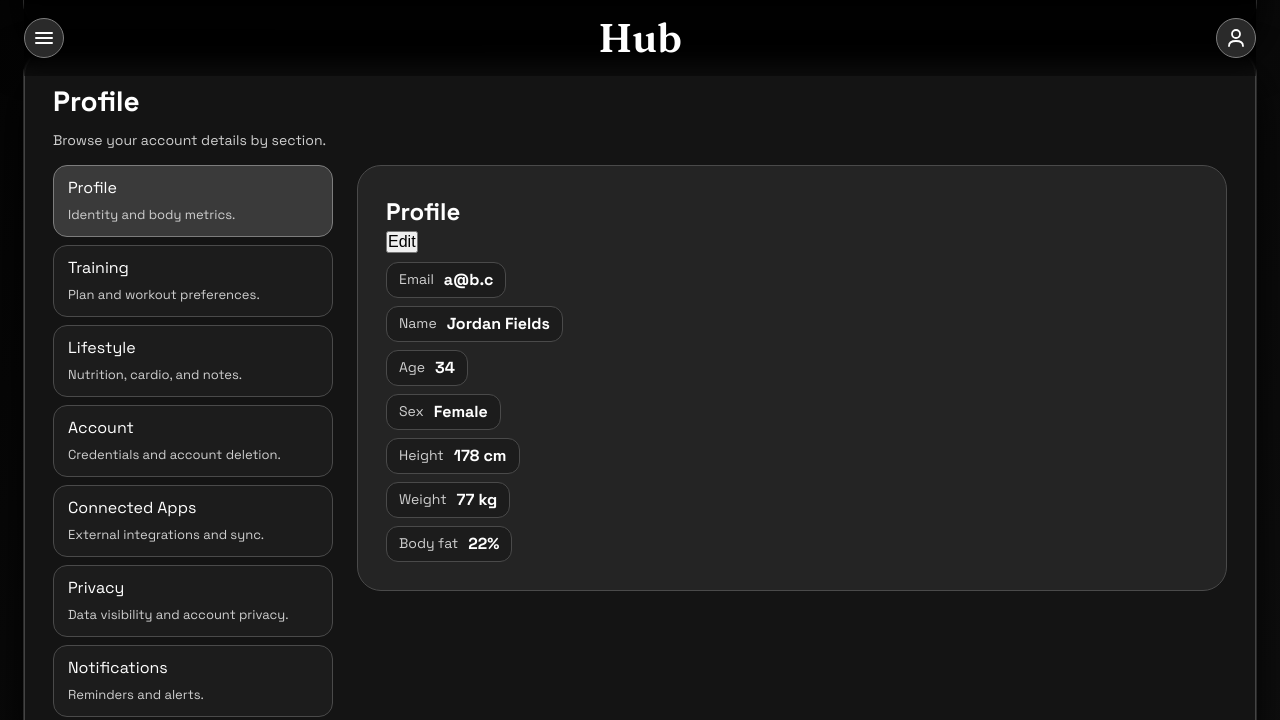
Test case: a signed-in visitor reads their stored profile › the Lifestyle tab shows the stored Nutrition
The width and height of the screenshot is (1280, 720).
(page scrolled)
expect the element named "Profile sections" is shown: met, box [53, 165, 333, 717]
Click the tab "Lifestyle Nutrition, cardio, and notes.".
click(102, 347)  # box [53, 325, 333, 397]
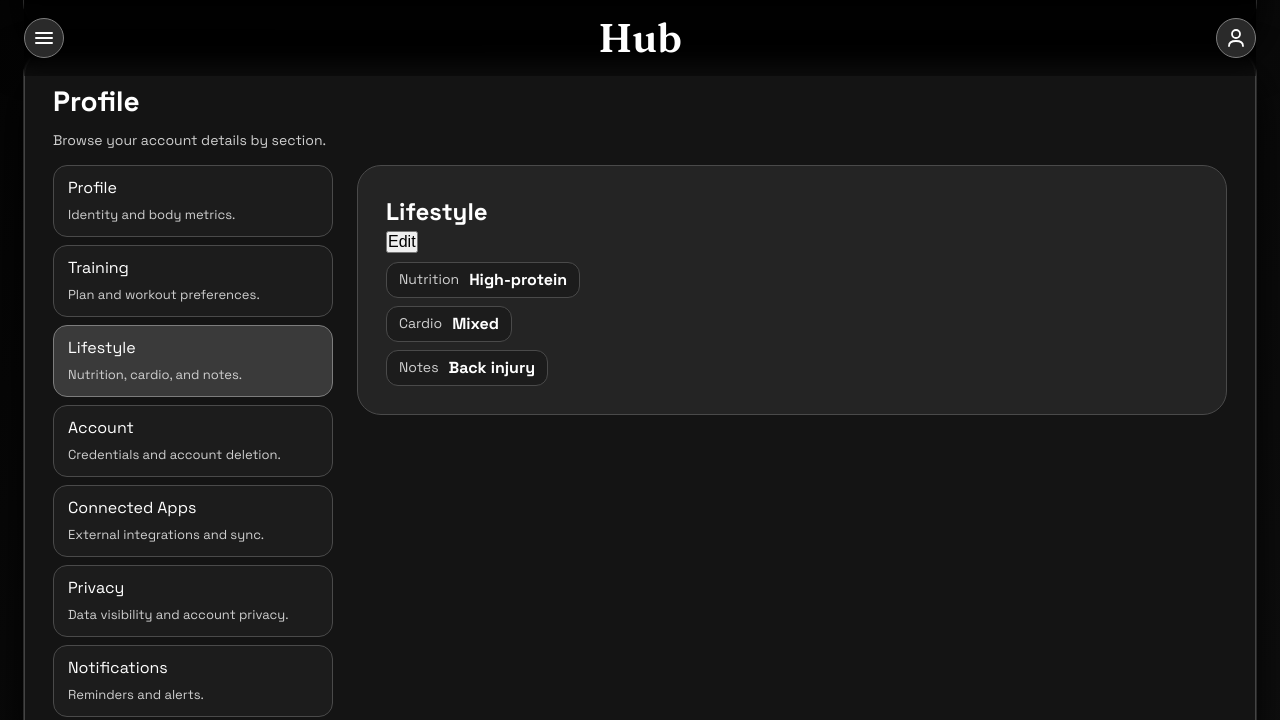
expect the text "High-protein" is shown: met, box [469, 270, 567, 290]
